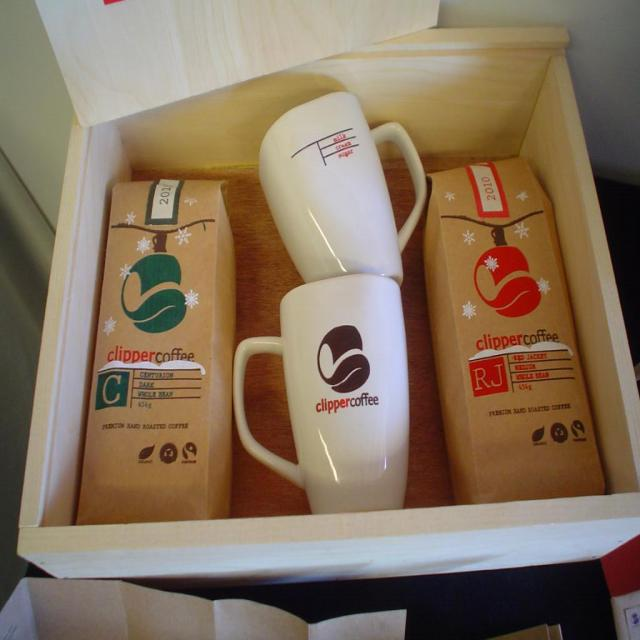Box: (17, 0, 640, 593), (421, 154, 624, 506)
